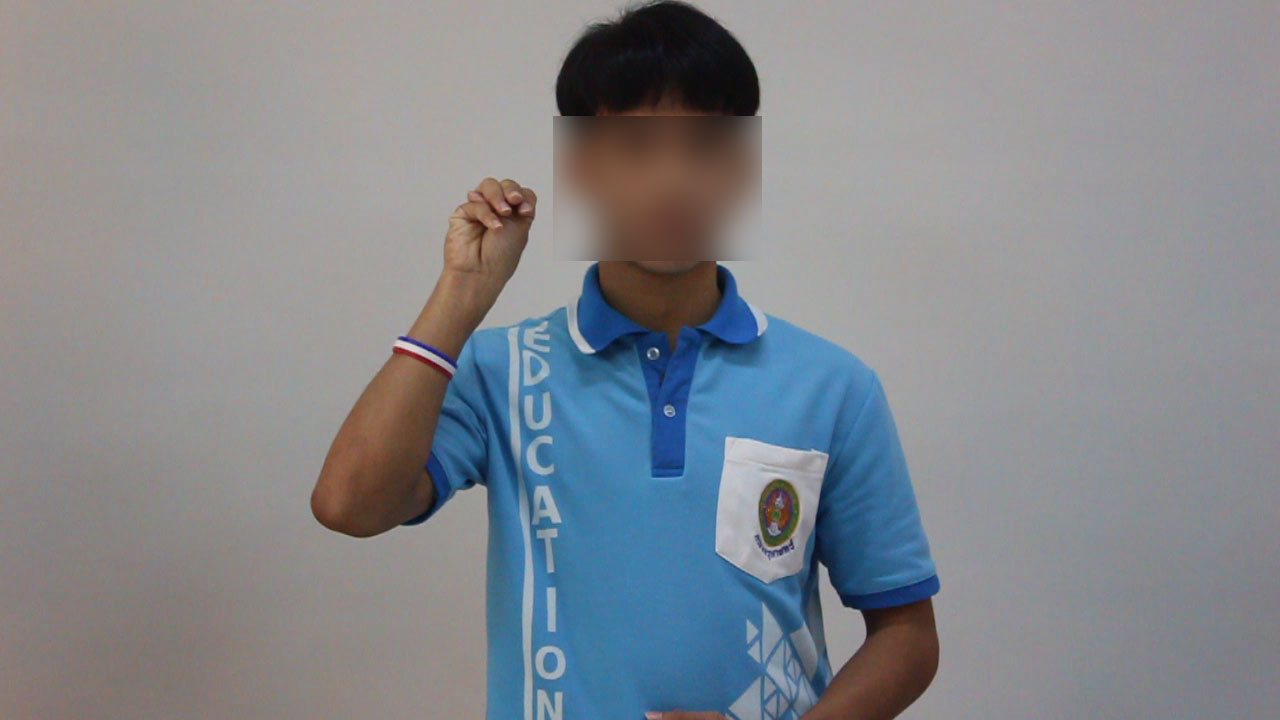mor: (431, 156, 545, 319)
